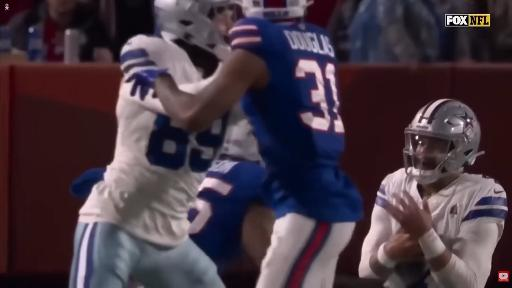Helmet: (403, 99, 483, 184), (154, 0, 230, 50), (221, 119, 262, 164), (242, 0, 313, 20)
Jersey: (79, 35, 237, 246), (230, 18, 362, 222), (189, 159, 264, 272), (360, 169, 422, 276)
Player: (154, 0, 362, 287), (70, 0, 235, 287), (359, 99, 507, 287), (189, 120, 273, 274)
